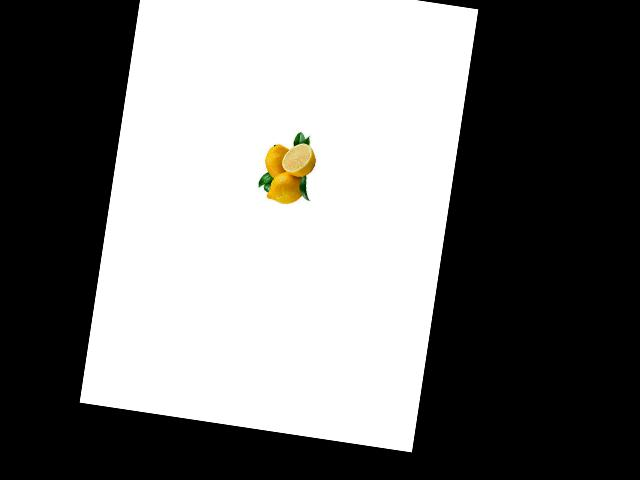lemon: (261, 167, 309, 209)
